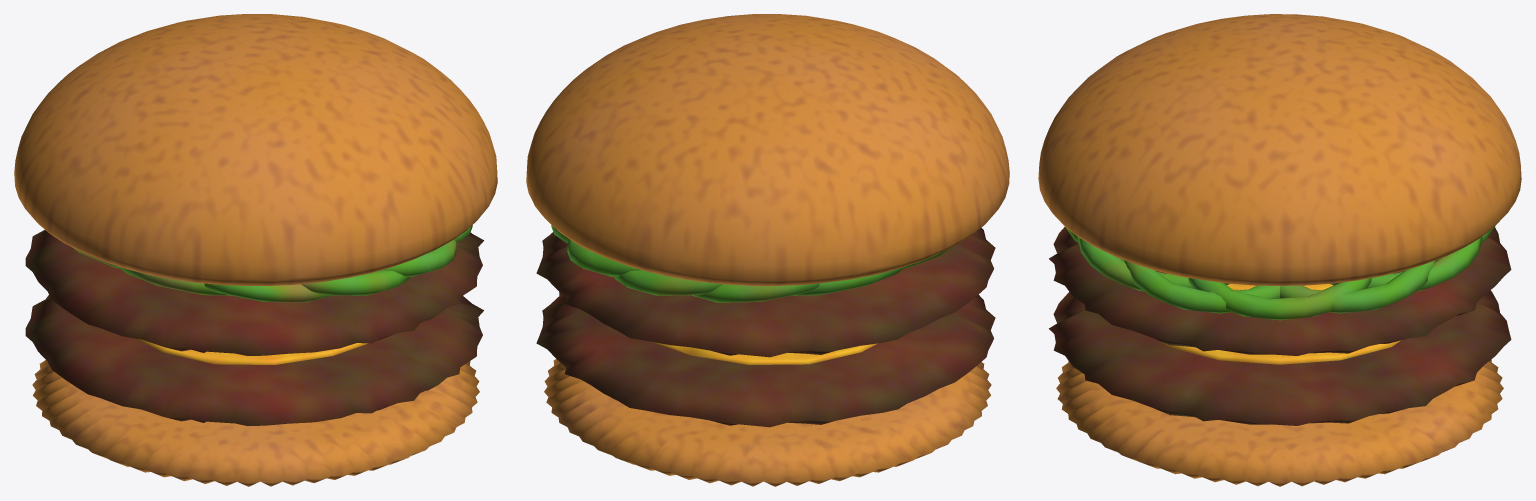
File: golden-oak-signature-burger-balanced.glb
The picture shows the model from 3 angles, left to right: view 1: azimuth 30°, elevation 25°; view 2: azimuth 150°, elevation 25°; view 3: azimuth 270°, elevation 25°; orthographic projection.
Parts seen in each view (by area): view 1: Mesh_Signature_Brioche_Buns, Mesh_Double_Angus_Patties, Mesh_Signature_Lettuce_Tomato_Onion, Mesh_Double_Smoked_Cheddar; view 2: Mesh_Signature_Brioche_Buns, Mesh_Double_Angus_Patties, Mesh_Signature_Lettuce_Tomato_Onion, Mesh_Double_Smoked_Cheddar; view 3: Mesh_Signature_Brioche_Buns, Mesh_Double_Angus_Patties, Mesh_Signature_Lettuce_Tomato_Onion, Mesh_Double_Smoked_Cheddar.
Part boxes in pixels (x1,y1,x2,y2): Mesh_Signature_Brioche_Buns: [14, 14, 497, 486]; Mesh_Double_Angus_Patties: [25, 230, 483, 425]; Mesh_Signature_Lettuce_Tomato_Onion: [72, 225, 472, 302]; Mesh_Double_Smoked_Cheddar: [137, 339, 368, 364]; Mesh_Signature_Brioche_Buns: [526, 14, 1009, 486]; Mesh_Double_Angus_Patties: [536, 228, 995, 427]; Mesh_Signature_Lettuce_Tomato_Onion: [551, 225, 951, 302]; Mesh_Double_Smoked_Cheddar: [651, 341, 877, 364]; Mesh_Signature_Brioche_Buns: [1038, 14, 1521, 486]; Mesh_Double_Angus_Patties: [1049, 227, 1511, 425]; Mesh_Signature_Lettuce_Tomato_Onion: [1065, 226, 1495, 320]; Mesh_Double_Smoked_Cheddar: [1160, 284, 1400, 364].
Bounding box in the file's own units: 2 × 1.68 × 2.
Materials: 4 (4 with a texture image).
